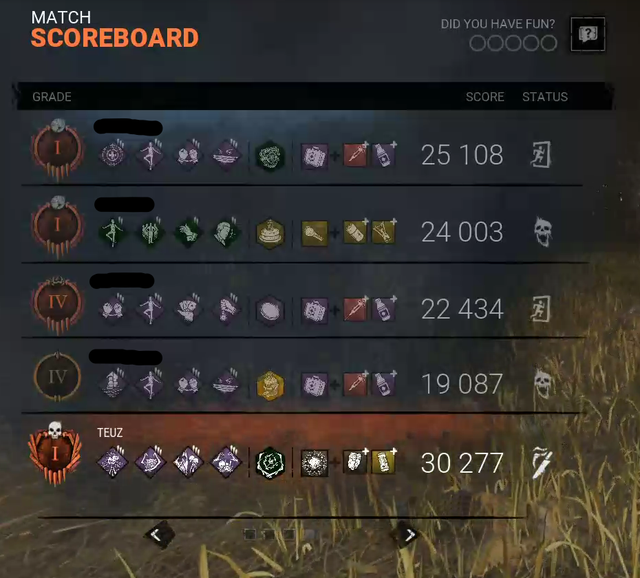ace_in_the_hole: (172, 216, 204, 247)
balanced_landing: (133, 139, 165, 170), (97, 216, 129, 247), (133, 293, 165, 324), (134, 369, 166, 400)
bond: (172, 139, 204, 170), (96, 293, 128, 324), (172, 368, 204, 399)
borrowed_time: (210, 293, 242, 324)
circle_of_healing: (96, 139, 128, 170)
hex:pentimento: (209, 447, 241, 478)
hex:retribution: (95, 446, 127, 477)
hex:ruin: (134, 447, 166, 478)
hex:undying: (172, 447, 204, 478)
open_handed: (173, 292, 205, 323)
prove_thyself: (134, 216, 166, 247)
self_aware: (95, 369, 127, 400)
visionary: (210, 216, 242, 247)
windows_of_opportunity: (210, 140, 242, 171), (208, 368, 240, 399)
